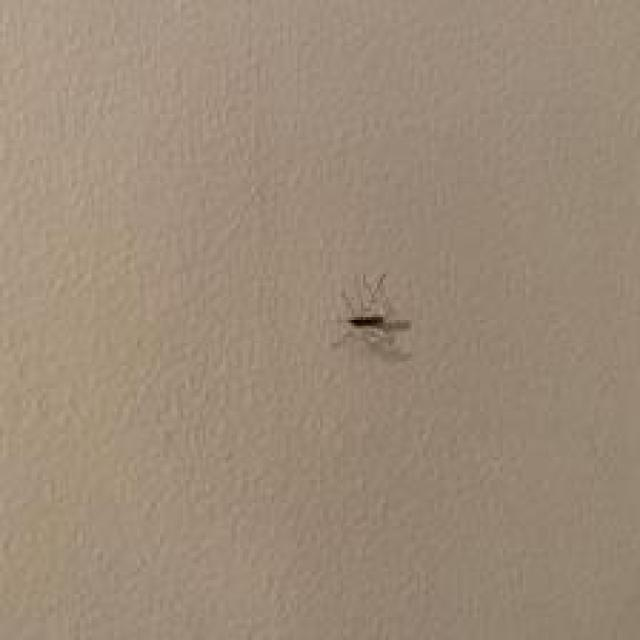Culex: (330, 270, 413, 356)
